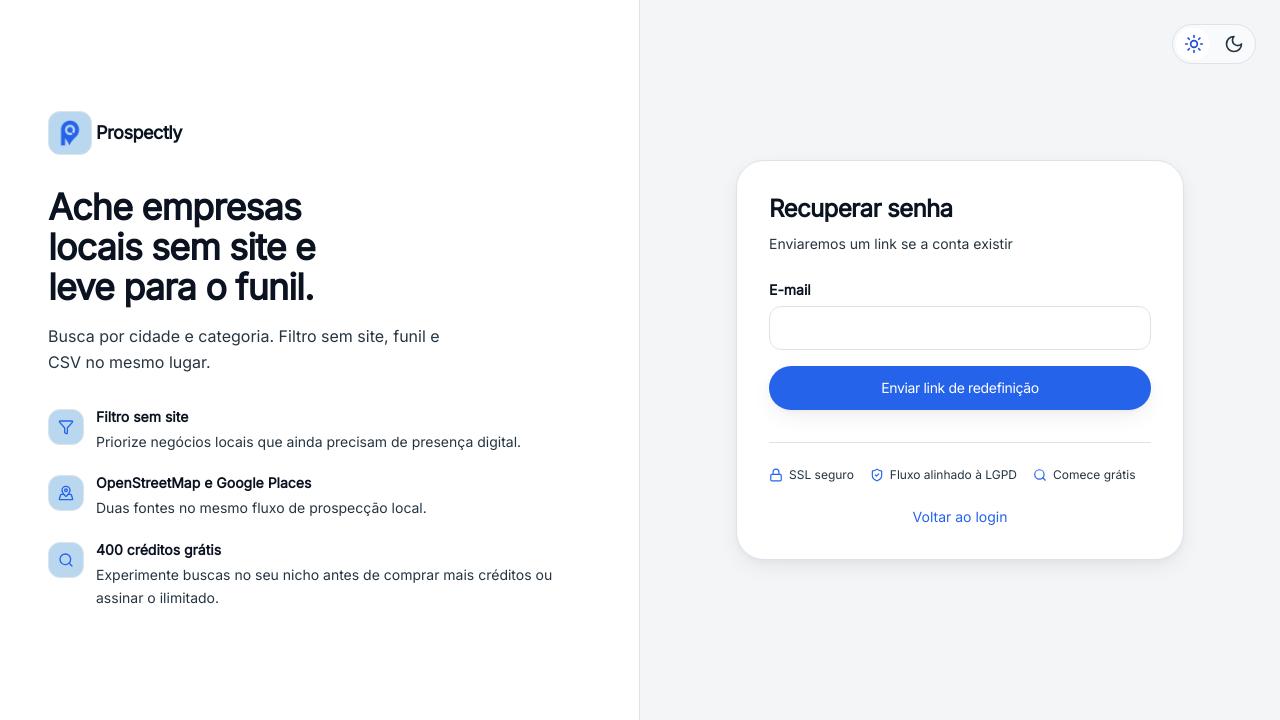
Test: ForgotPasswordPage › validates email format before submit
The image size is (1280, 720).
Type "not-an-email" into the field labelled "E-mail". click: (960, 328)
box: [769,306,1151,350]
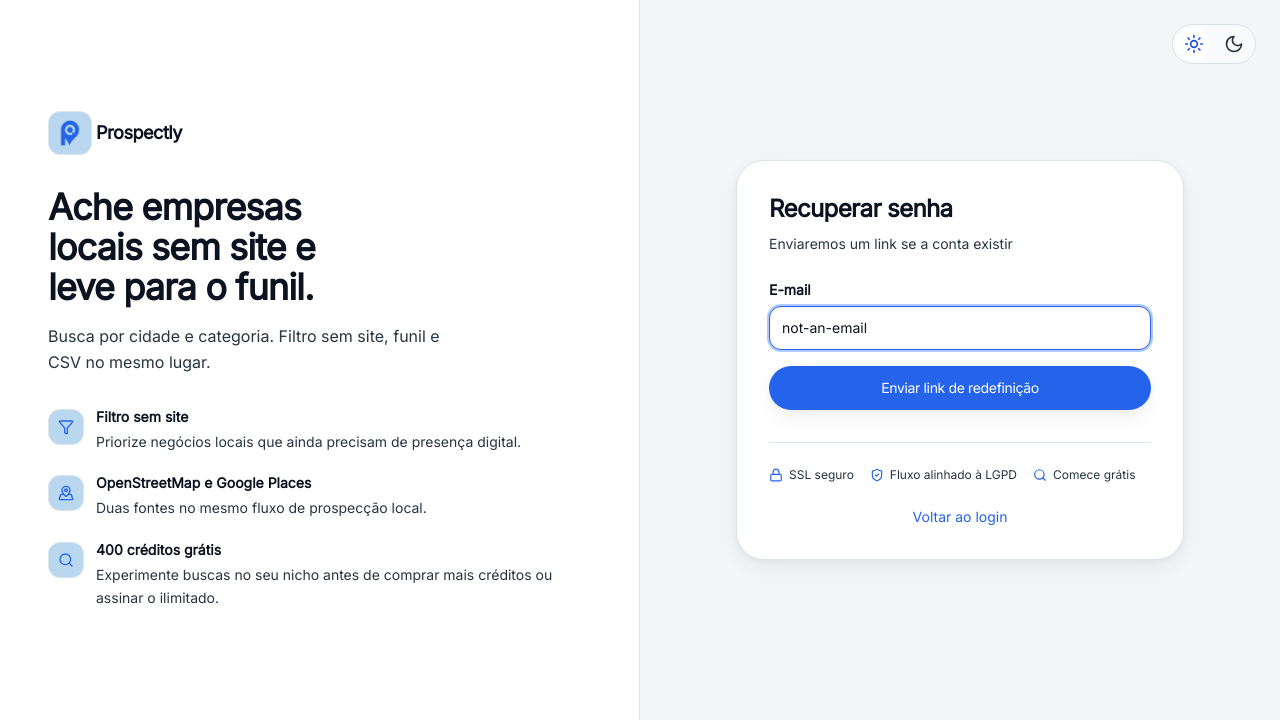
Click the button "Enviar link de redefinição". click: click(960, 388)
box: [769,366,1151,410]
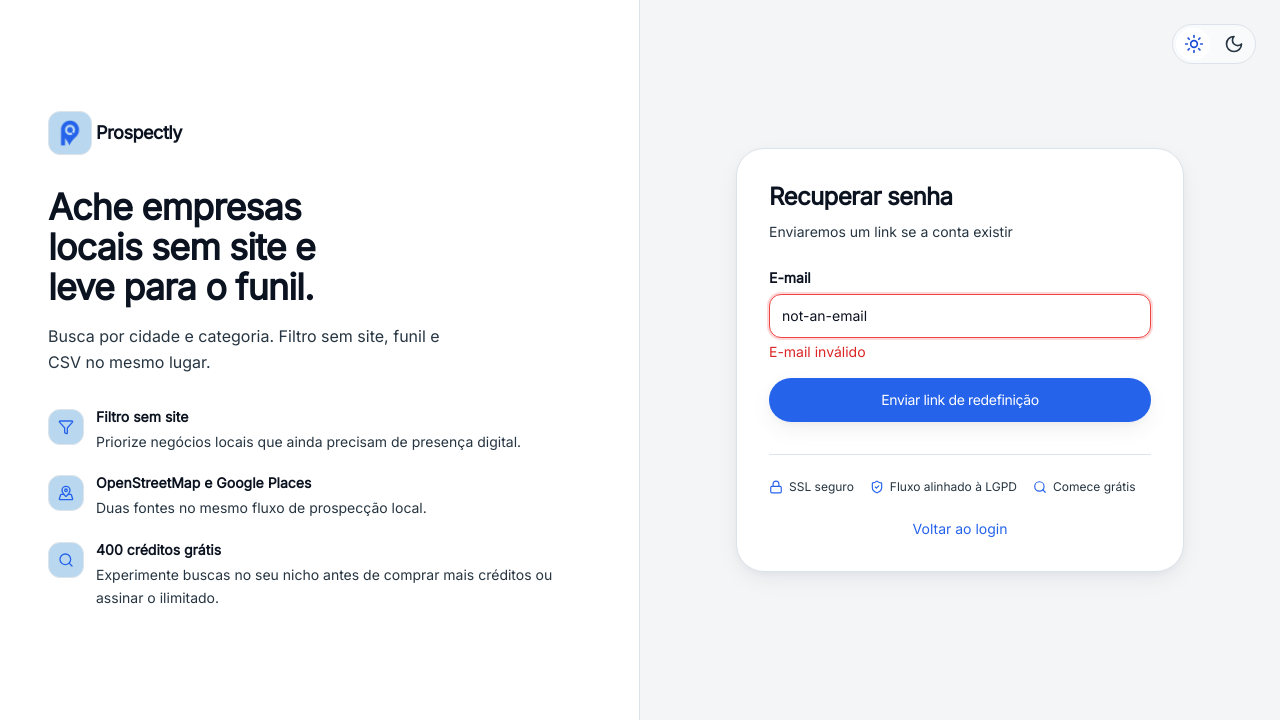
Now the text "E-mail inválido" is shown, box [769,343,866,360]
